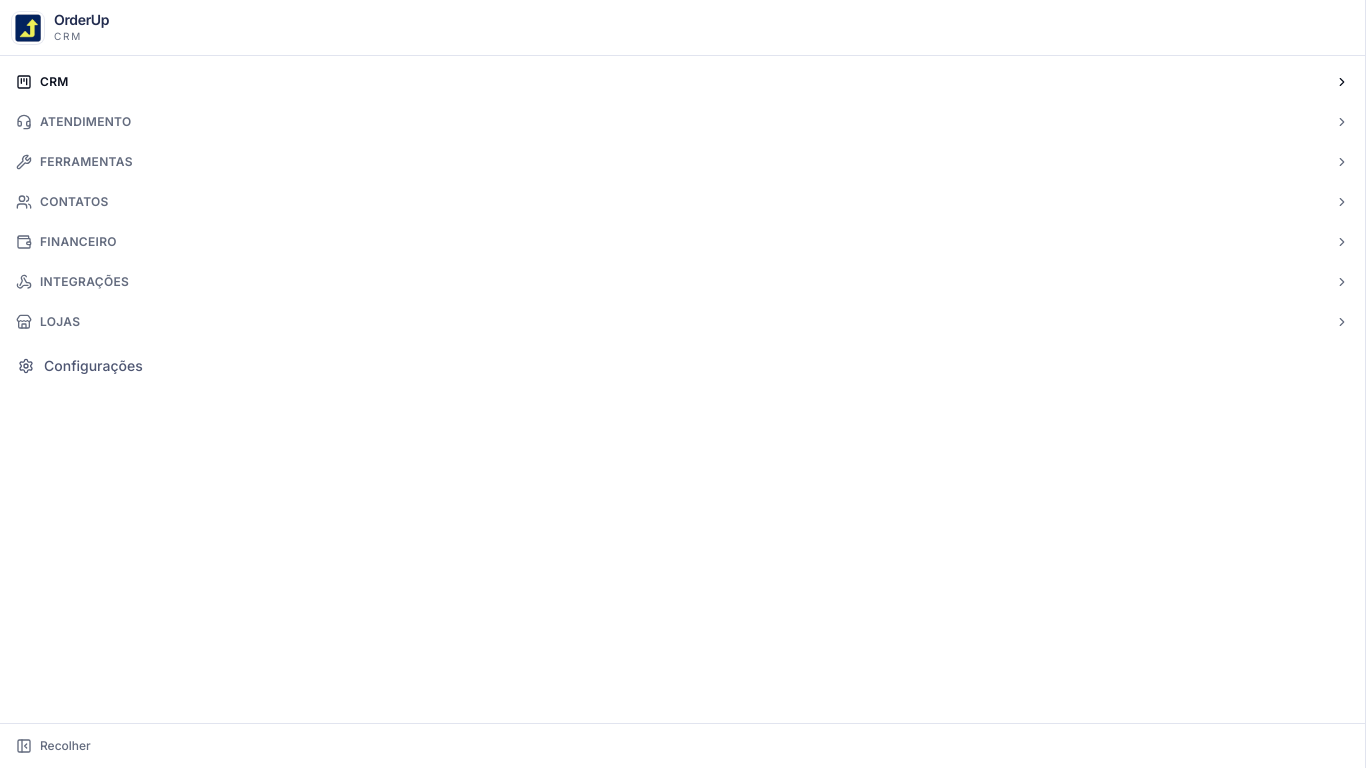
Test: Sidebar › renders active custom menu groups with safe external links in a new tab
Click the button "Lojas".
click(60, 322)  # box x1=8 y1=308 x2=1357 y2=336
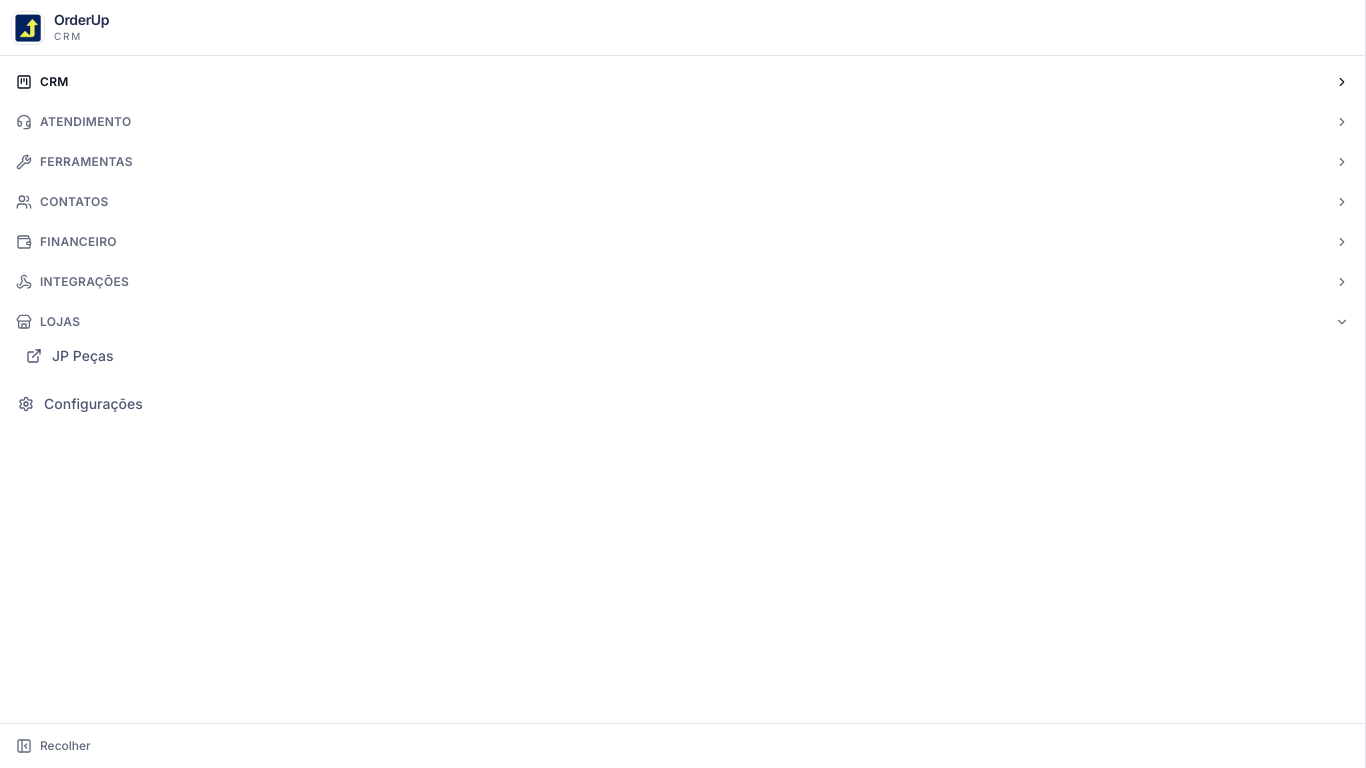
Expected: the link to "https://pecas.example.com" reads "JP Peças", x1=26 y1=347 x2=114 y2=364
